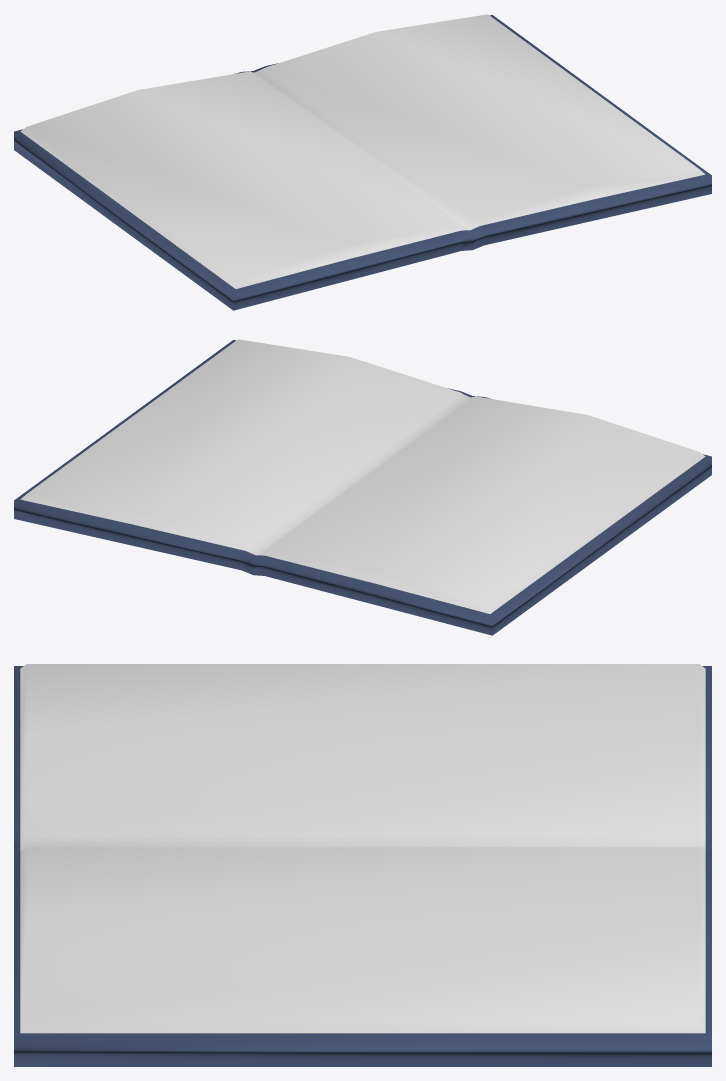
Rendered from Book.fbx.
3 renders of one model, top to bottom at view 1: azimuth 30°, elevation 25°; view 2: azimuth 150°, elevation 25°; view 3: azimuth 270°, elevation 25°, orthographic. The views are drawn at different scales.
Visible parts, largest first — view 1: Cube.015; view 2: Cube.015; view 3: Cube.015.
Part boxes in pixels (left/top/right/bottom): Cube.015: left=14, top=14, right=711, bottom=310; Cube.015: left=14, top=339, right=711, bottom=635; Cube.015: left=14, top=664, right=711, bottom=1066.
Size of the model in its own units: 48.67 by 3.27 by 38.66.
